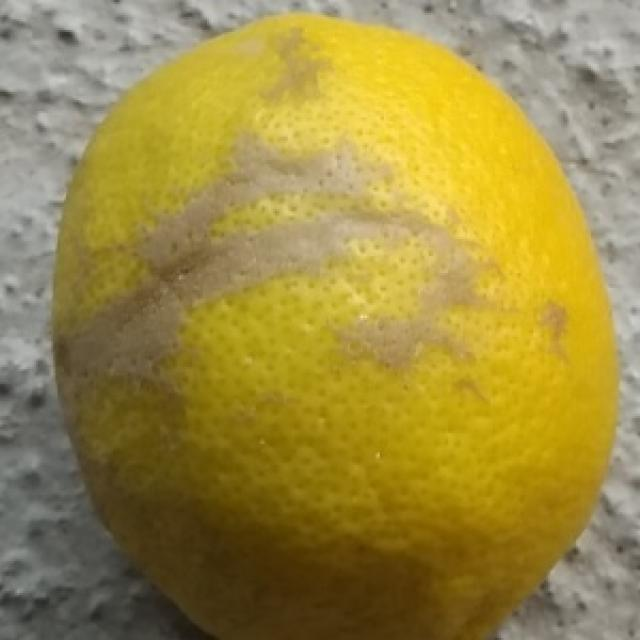overripe: (45, 9, 628, 640)
